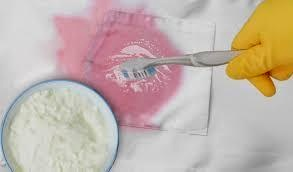wine: (58, 12, 161, 69), (120, 80, 184, 125), (153, 34, 186, 54), (94, 67, 112, 88), (173, 74, 180, 83)
